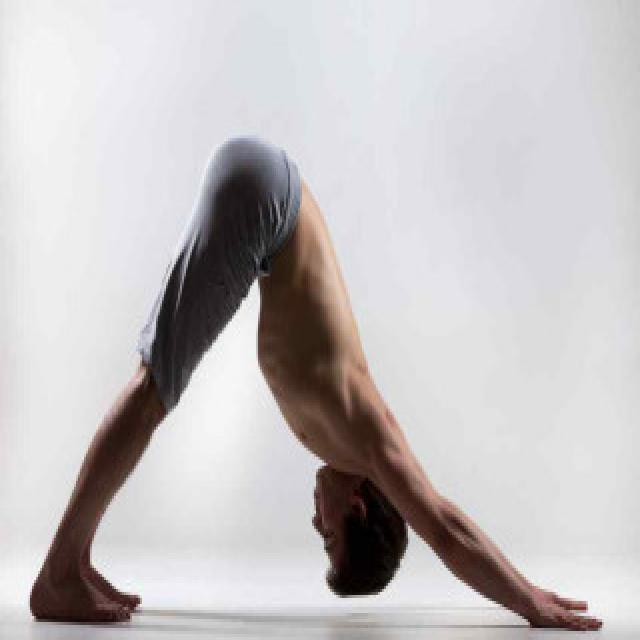yoga-pose downward: (32, 127, 602, 634)
